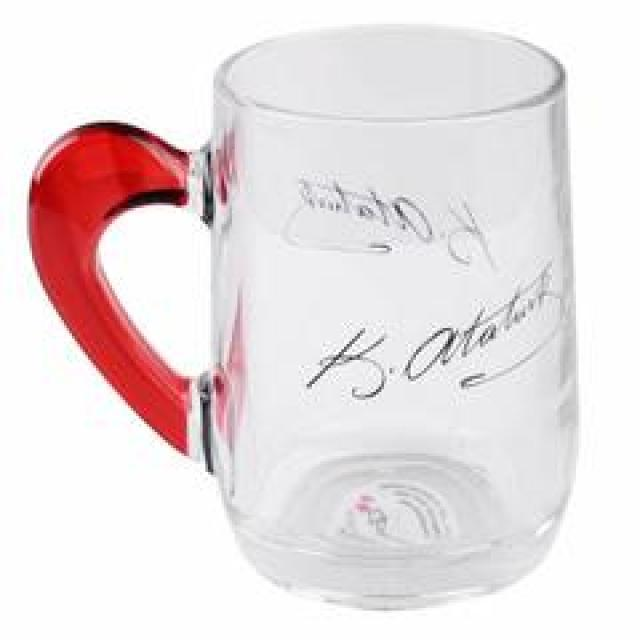Coffee Mug: (29, 24, 584, 616)
